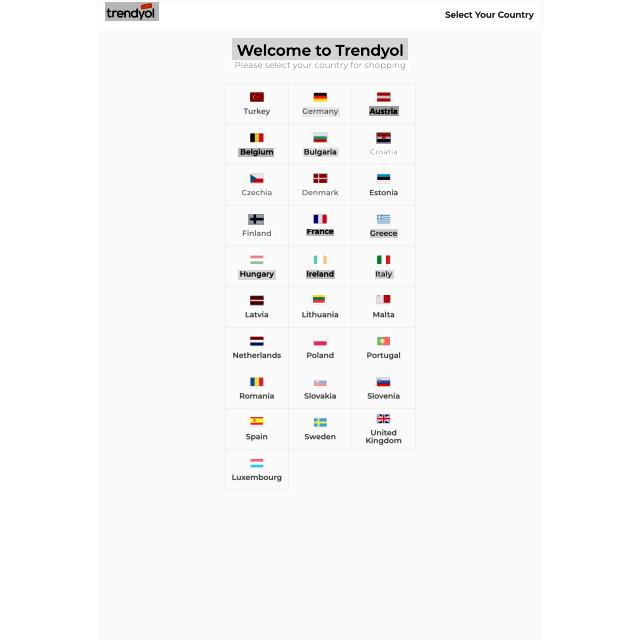Input field: (231, 61, 410, 72)
bag: (98, 0, 542, 30)
breadcrumbs: (441, 6, 537, 22)
carousel: (249, 254, 265, 266), (376, 132, 391, 144), (248, 214, 264, 225), (313, 336, 329, 347), (312, 376, 328, 387), (250, 376, 264, 388), (313, 132, 328, 143), (312, 255, 328, 265), (250, 173, 264, 184), (250, 295, 264, 306), (313, 173, 328, 183), (376, 296, 391, 306), (376, 377, 391, 387), (377, 214, 390, 225), (377, 254, 390, 265), (250, 92, 264, 102), (313, 92, 327, 102), (377, 92, 391, 102), (313, 214, 327, 224), (314, 296, 328, 306), (250, 336, 264, 346), (377, 336, 391, 346), (250, 418, 264, 428), (376, 414, 390, 424), (250, 458, 264, 468), (313, 418, 328, 427), (377, 174, 390, 184), (250, 133, 264, 142)
data feed: (302, 107, 340, 117), (238, 270, 276, 280), (303, 148, 339, 157), (238, 148, 274, 157), (369, 106, 399, 116), (243, 106, 271, 116), (306, 270, 335, 279), (302, 189, 339, 196), (241, 229, 273, 237), (370, 229, 398, 238), (368, 148, 398, 156), (368, 188, 398, 196), (306, 230, 334, 238), (241, 189, 272, 196), (375, 270, 394, 279)
date picker: (105, 2, 159, 21)
image: (232, 38, 408, 61)
